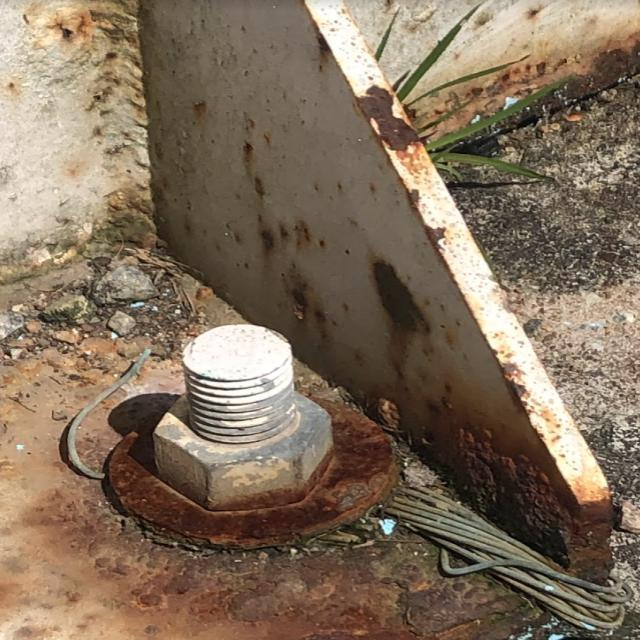Corrosion: (101, 322, 397, 550)
